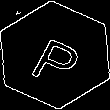P_NE: (24, 24, 86, 86)
